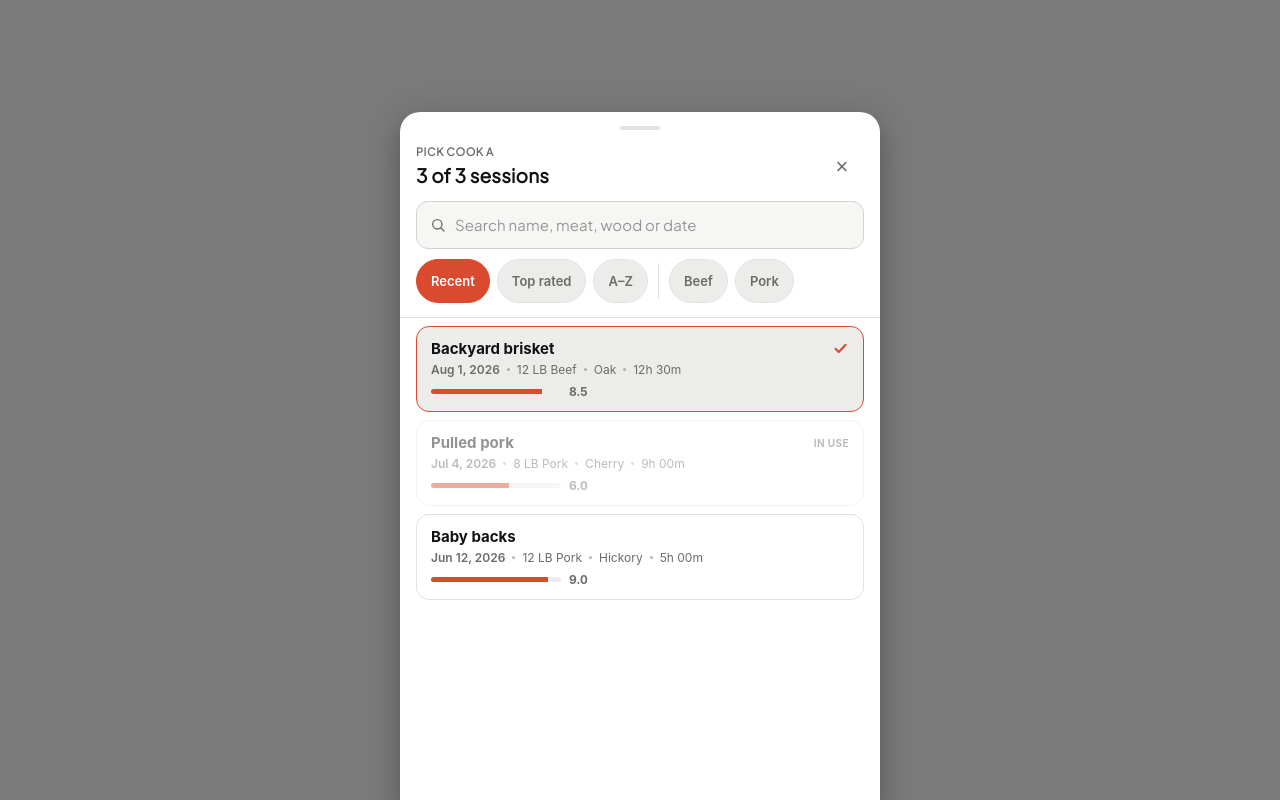
the cook picker sheet › a narrowing that matches nothing says so
Type "lamb" into the search field. click: (652,225)
box: [455,210,850,240]
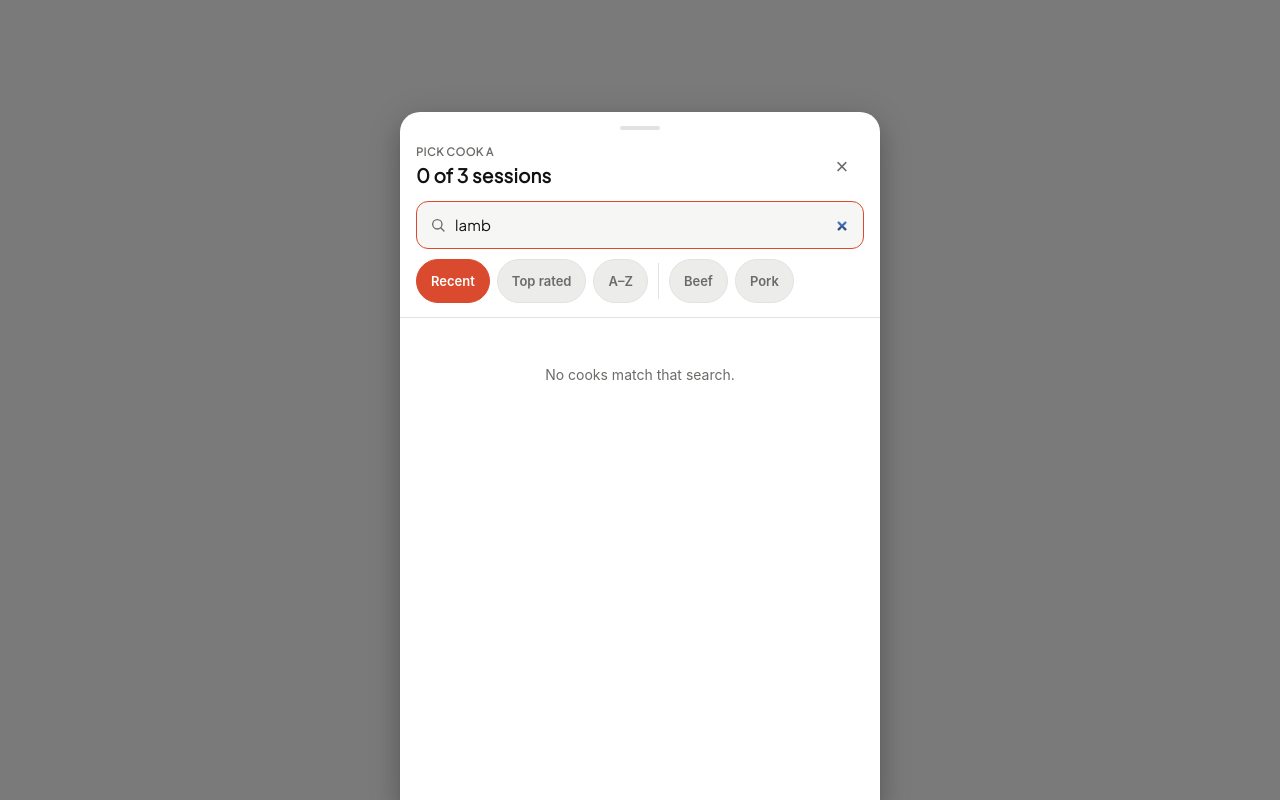
Result: no buttons with test id "cook-picker-row" are shown
Result: the text with test id "cook-picker-empty" shows "No cooks match" at [545,366,735,383]
